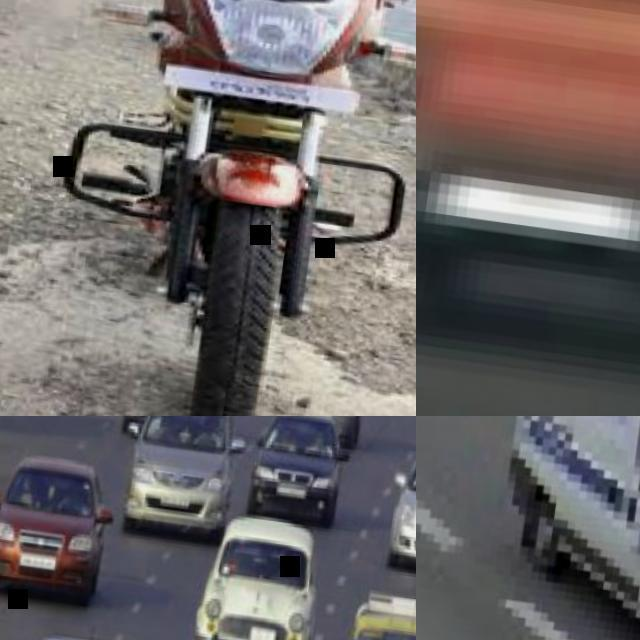car: (141, 0, 354, 362), (509, 416, 639, 624), (0, 455, 108, 606), (193, 507, 317, 638)
